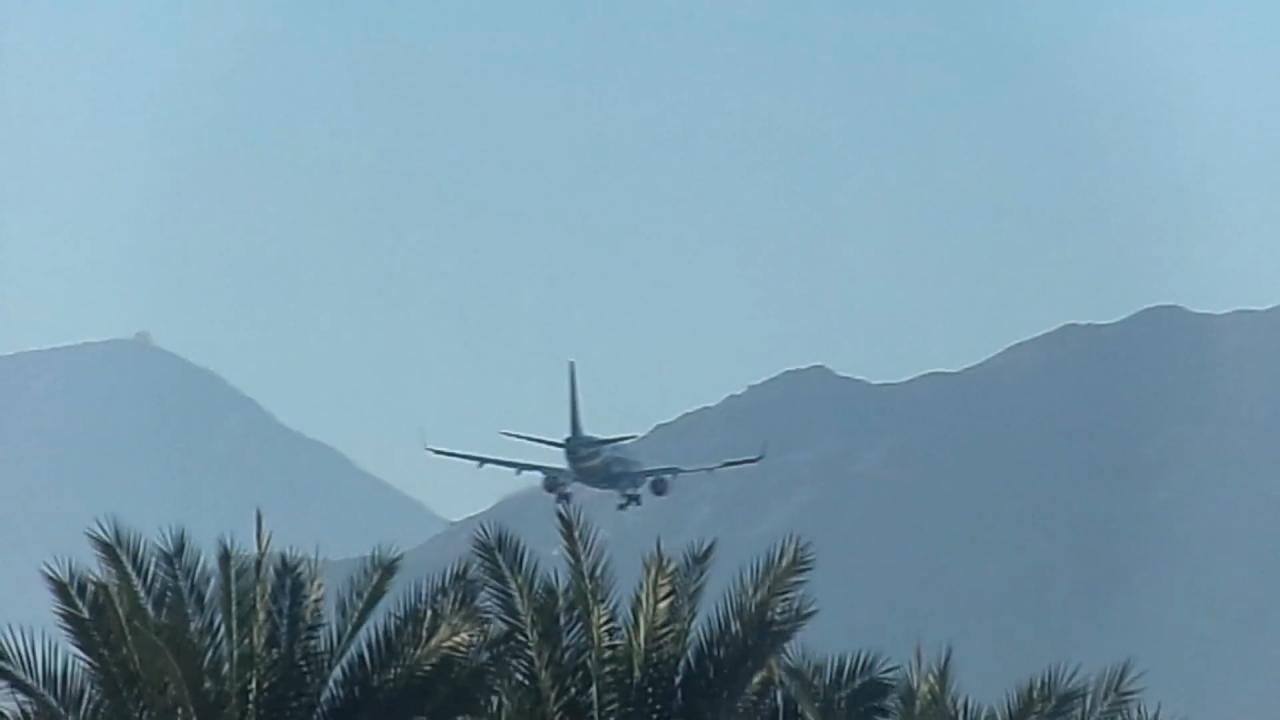Airplane: (416, 350, 784, 528)
